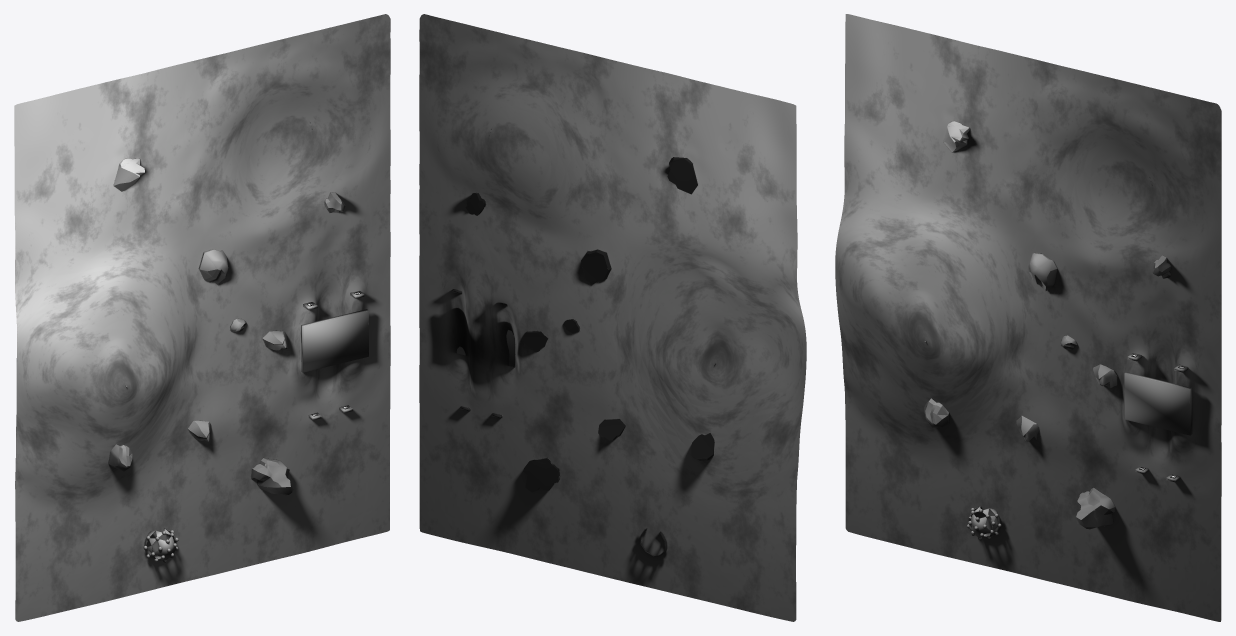
Rendered from environment.obj.
The picture shows the model from 3 angles, left to right: view 1: azimuth 30°, elevation 25°; view 2: azimuth 150°, elevation 25°; view 3: azimuth 330°, elevation 25°; orthographic projection.
Parts seen in each view (by area): view 1: terrain, rocks, objects; view 2: terrain, rocks, objects; view 3: terrain, rocks, objects.
Boxes of the visible parts, <box> form: terrain: <box>14,14,390,621</box>; rocks: <box>108,158,345,495</box>; objects: <box>125,291,368,562</box>; terrain: <box>419,14,806,621</box>; rocks: <box>465,157,714,492</box>; objects: <box>452,289,667,556</box>; terrain: <box>835,14,1221,621</box>; rocks: <box>924,121,1171,529</box>; objects: <box>924,341,1192,540</box>.
Size of the model in its own units: 82.57 by 108 by 9.88.
Materials: 5 (5 with a texture image).
